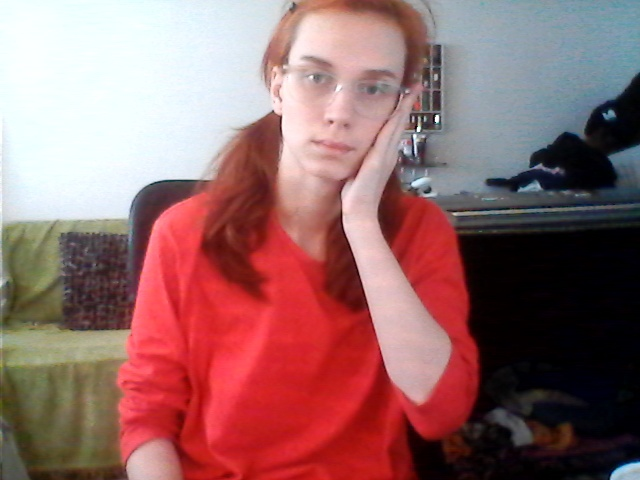lezat: (343, 79, 425, 235)
